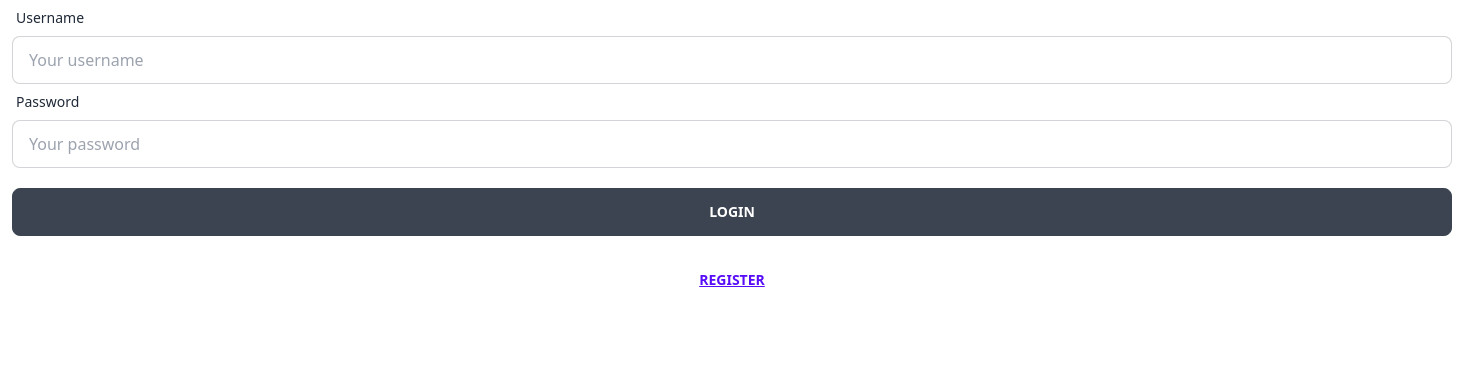
Test case: LoginForm › should show error after submit
The width and height of the screenshot is (1464, 368).
Click the button "Login": (732, 212) x1=12 y1=188 x2=1452 y2=236
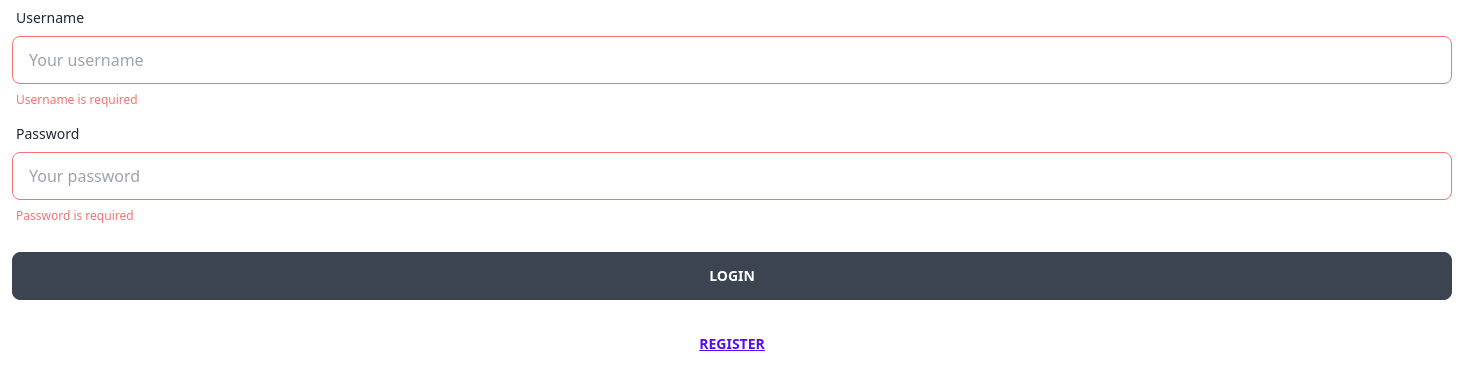
Expected: the text "Username is required" is shown, x1=16 y1=92 x2=138 y2=108
Expected: the text "Password is required" is shown, x1=16 y1=208 x2=134 y2=224
